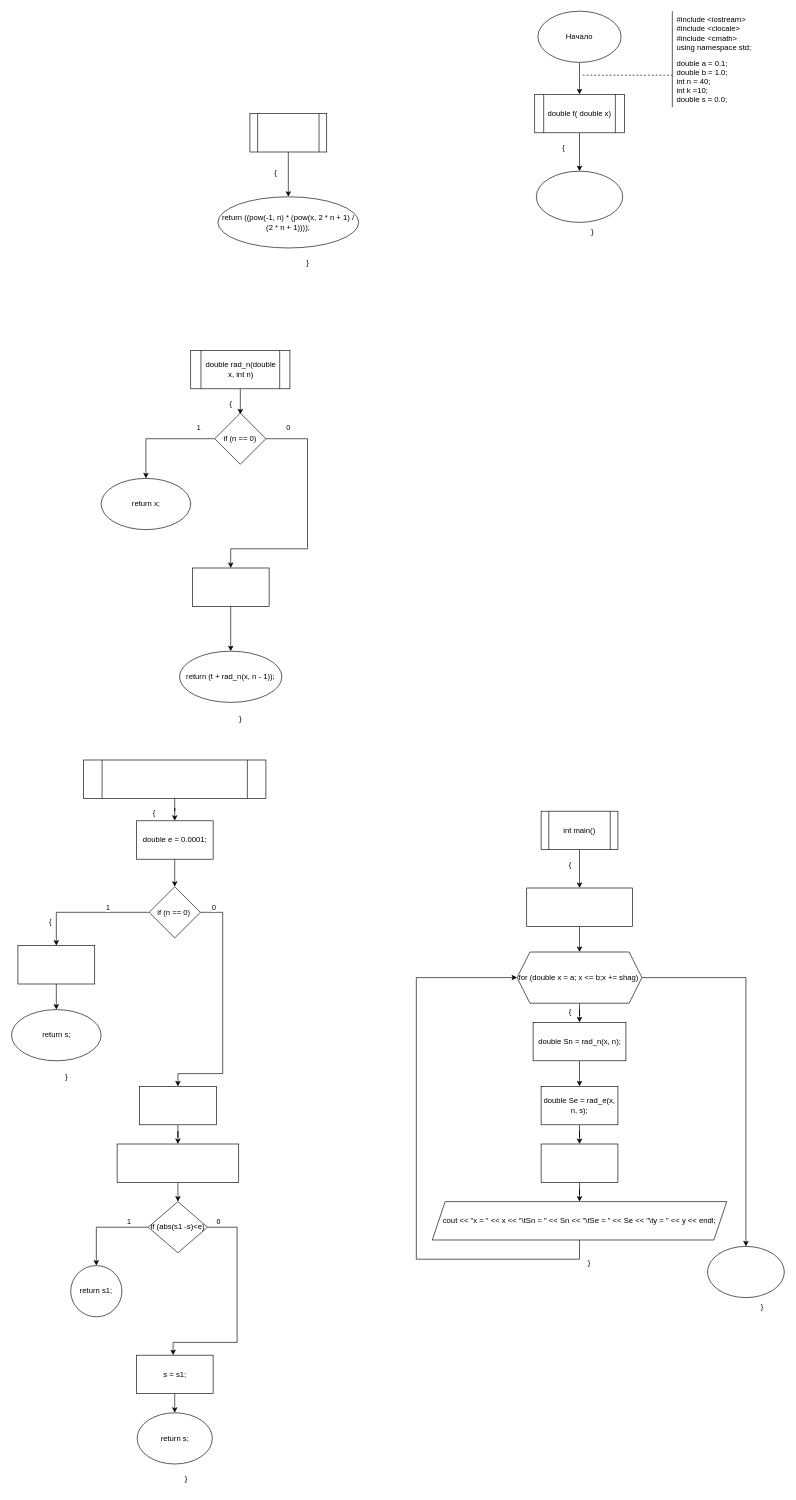
Image size: 796x1500. Some labels were removed from this diagram. The centre of each missing label's shape, as x and y in pixels:
double F(double x, int n): point 288,132
double rad_e(double x, int n , double s): point 174,778
double s1 = rad_e(x, n - 1, s) + x1;: point 177,1162
double shag = (b - a) / k;: point 579,906
double t = F(x,n);: point 230,586
double x1 = F(x,n);: point 177,1105
double y = f(x);: point 579,1162
return 0;: point 745,1272
return atan(x);: point 579,196
s=x;: point 56,964
